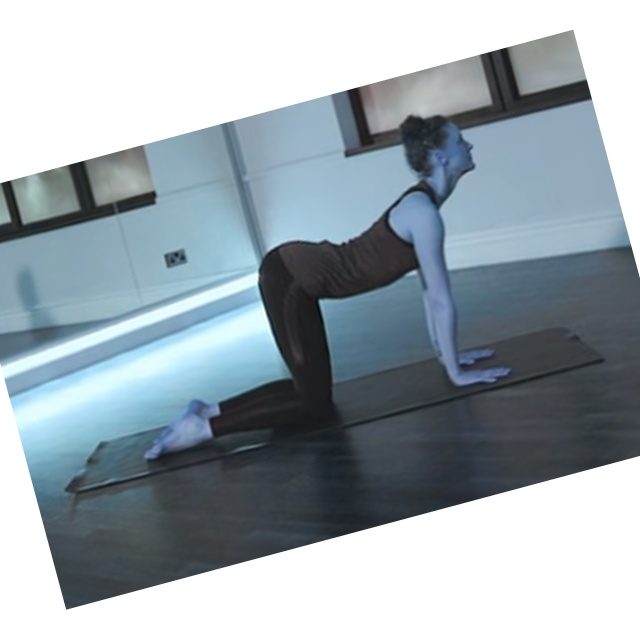Cow_Pose: (139, 110, 515, 466)
